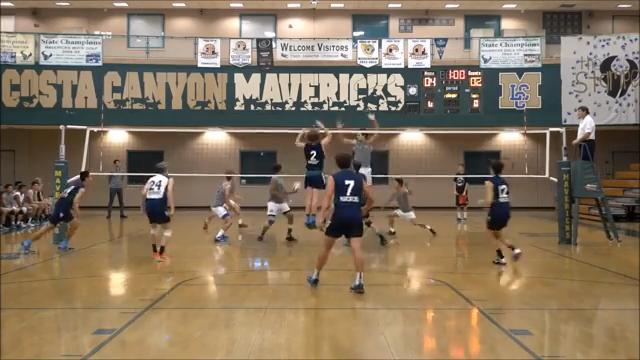Attack: (284, 116, 332, 236)
Block: (334, 113, 382, 188)
Player: (307, 154, 372, 292), (22, 170, 90, 252), (485, 160, 521, 264), (141, 162, 174, 261), (257, 164, 299, 241), (385, 178, 436, 235), (203, 170, 239, 241), (227, 171, 247, 227), (363, 213, 387, 245)
